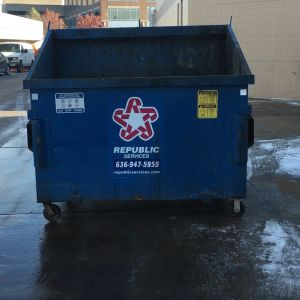Dumpster: (20, 21, 262, 223)
